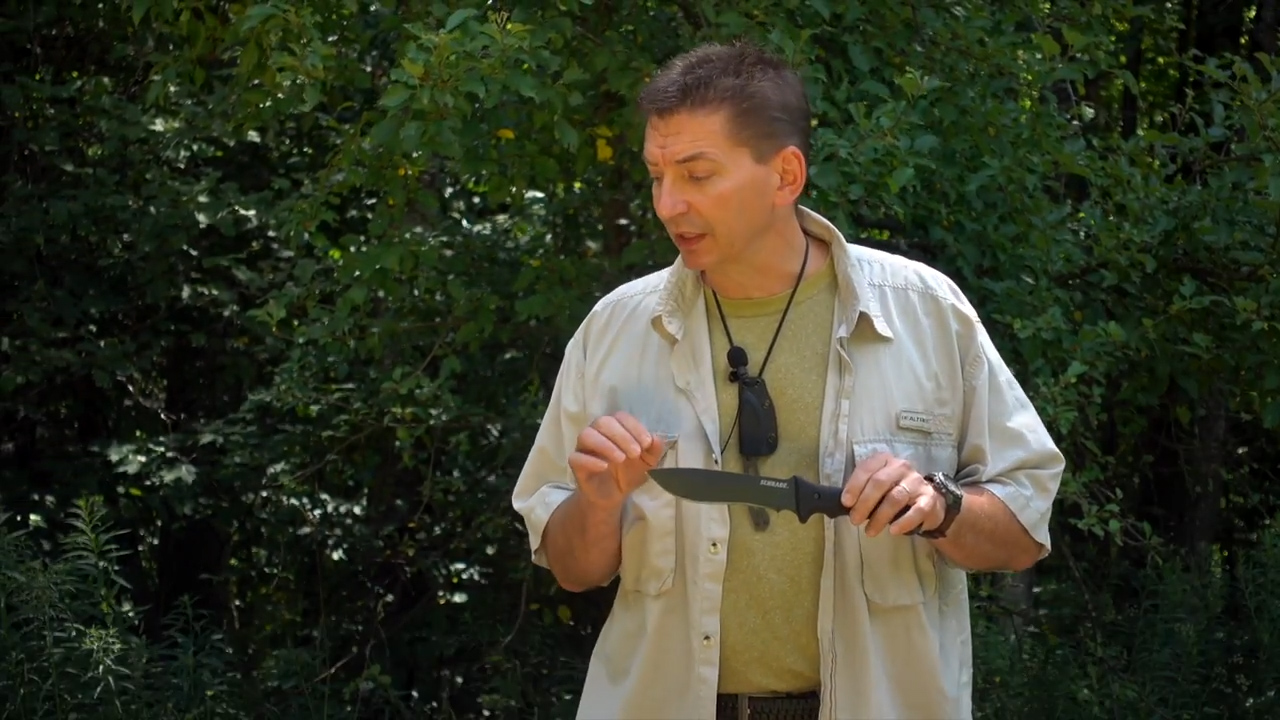knife: (643, 465, 933, 541)
